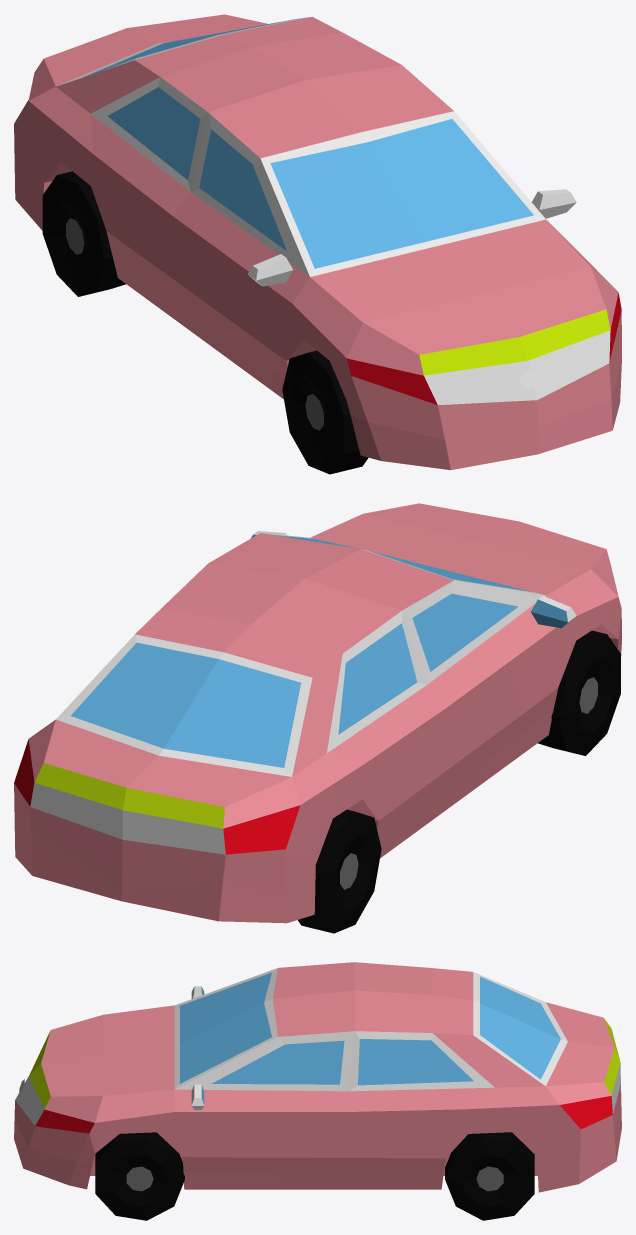
Rendered from Car-Passenger_2.fbx.
The picture shows the model from 3 angles, top to bottom: view 1: azimuth 30°, elevation 25°; view 2: azimuth 150°, elevation 25°; view 3: azimuth 270°, elevation 25°; orthographic projection. The views are drawn at different scales.
Parts seen in each view (by area): view 1: car-passenger-wheel_FL; view 2: car-passenger-wheel_FL; view 3: car-passenger-wheel_FL.
Part boxes in pixels (left/top/right/bottom): car-passenger-wheel_FL: left=14, top=14, right=621, bottom=474; car-passenger-wheel_FL: left=14, top=503, right=621, bottom=933; car-passenger-wheel_FL: left=14, top=962, right=621, bottom=1220.
Bounding box in the file's own units: 2.1 × 1.55 × 4.72.
